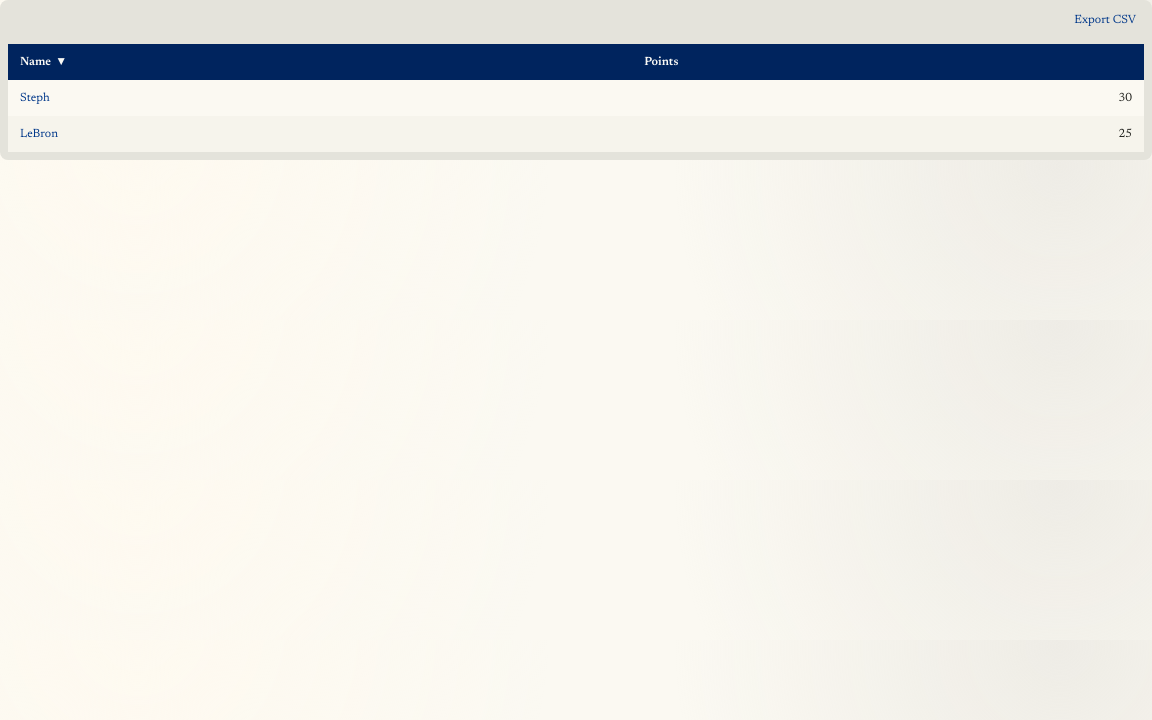
Test: StatsTable › sorts rows by clicking header
expect the row "Steph 30" is shown: met, box [8,80,1144,116]
expect the row "LeBron 25" is shown: met, box [8,116,1144,152]
Click Name header to toggle to "asc"
Click the button "Name ▼" at (36, 62), box [20,54,620,70]
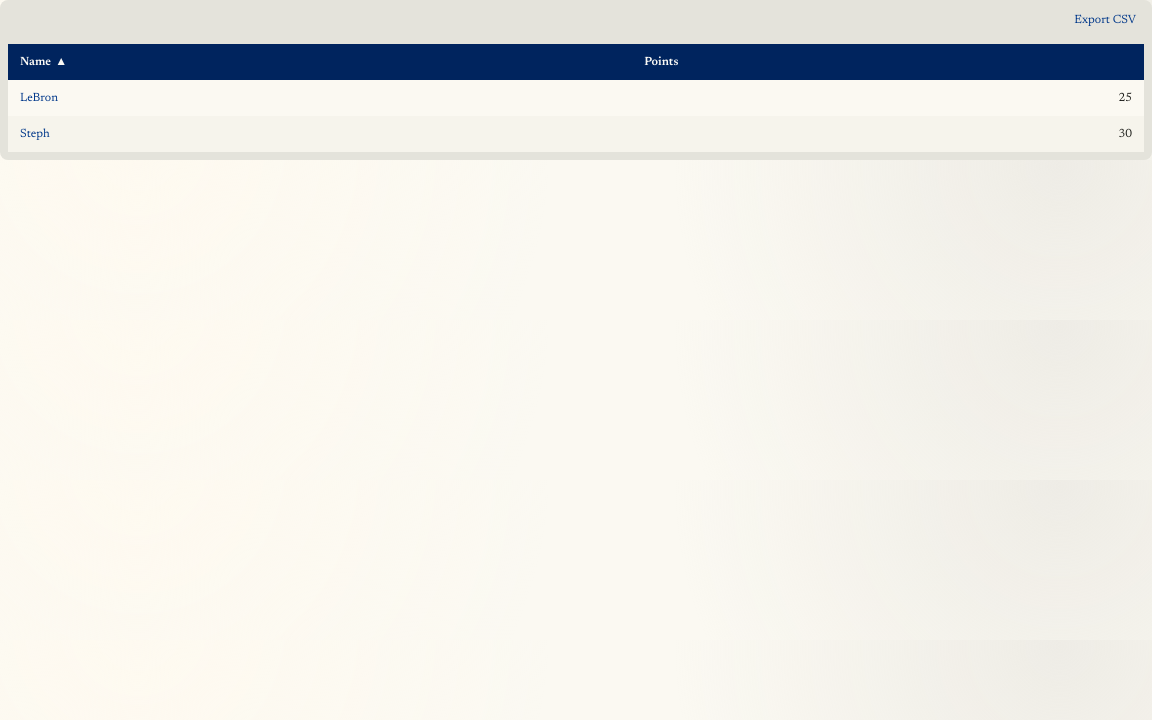
expect the row "LeBron 25" is shown: met, box [8,80,1144,116]
expect the row "Steph 30" is shown: met, box [8,116,1144,152]
Click Points header (sets sortKey to "pts" and direction to "desc")
Click the button "Points" at (661, 62), box [644,54,1132,70]
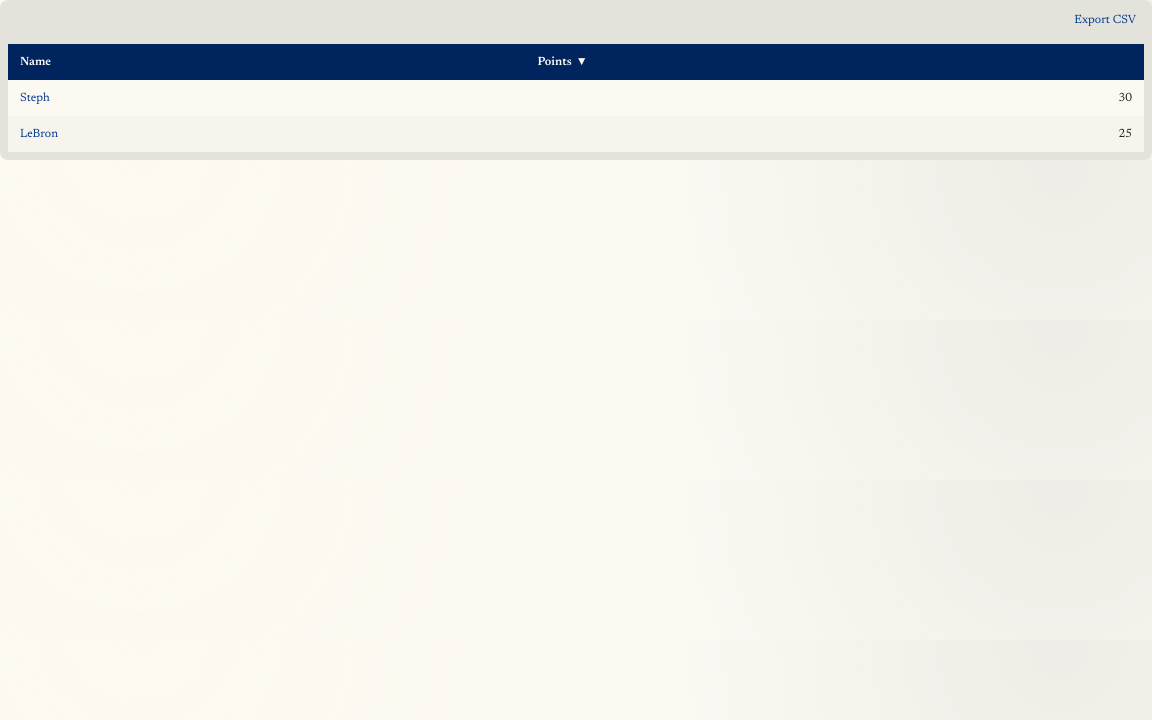
expect the row "Steph 30" is shown: met, box [8,80,1144,116]
expect the row "LeBron 25" is shown: met, box [8,116,1144,152]
